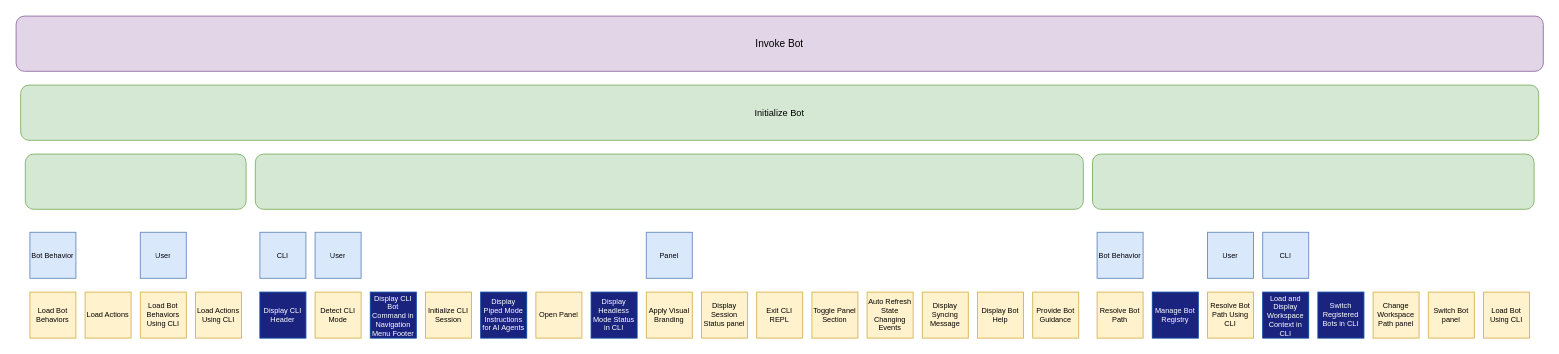
Some shapes in this 1559 by 354 pixel diagram are drawn without their labels. The shapes that lost their labels are listed below. From the top down, each one's centre as x and y in pixels, then its label:
At point 135,181: "Load Behavior, and Actions".
At point 668,181: "Render Bot Interface".
At point 1313,181: "Load Bot".
